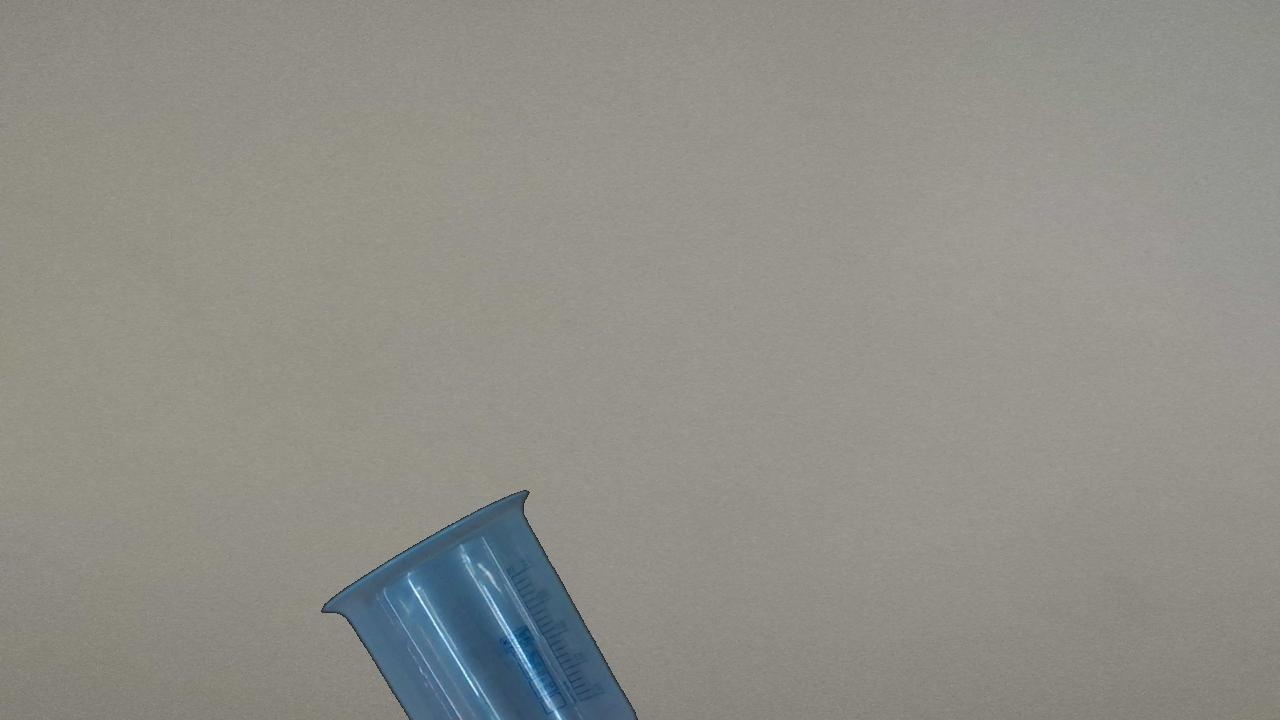becker: (318, 488, 639, 716)
